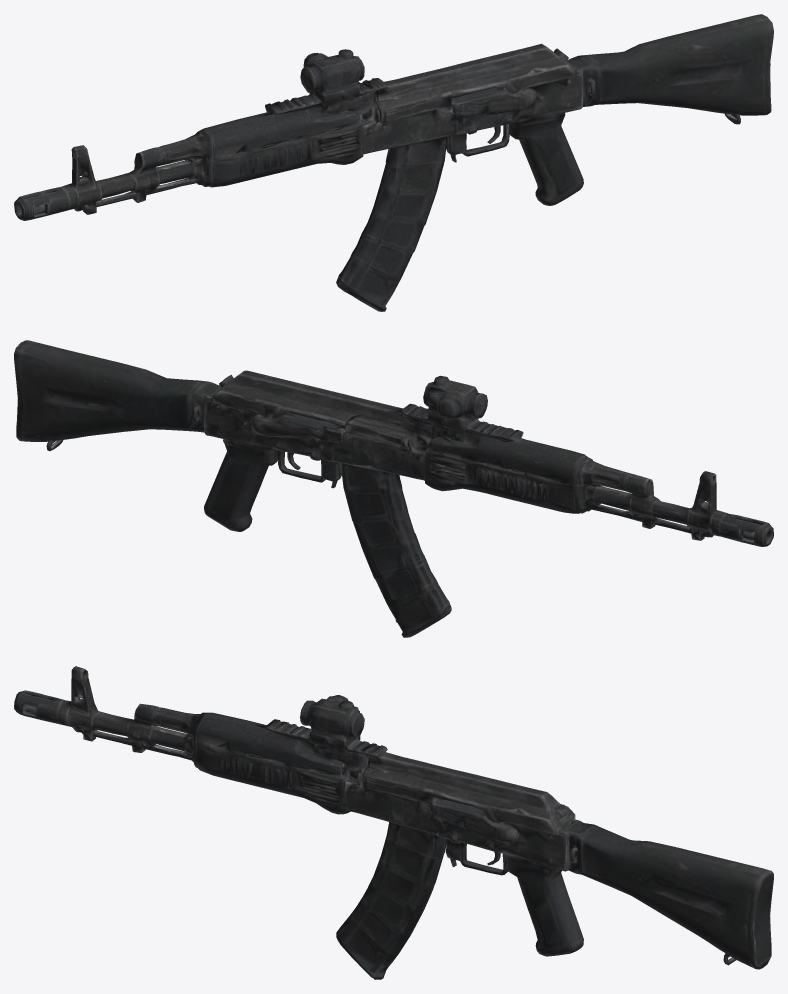
Rendered from rifle_low.glb.
The picture shows the model from 3 angles, top to bottom: view 1: azimuth 30°, elevation 25°; view 2: azimuth 150°, elevation 25°; view 3: azimuth 330°, elevation 25°; orthographic projection.
Bounding box in the file's own units: 1.9 × 0.6472 × 0.124.
1 material, 1 textured.
